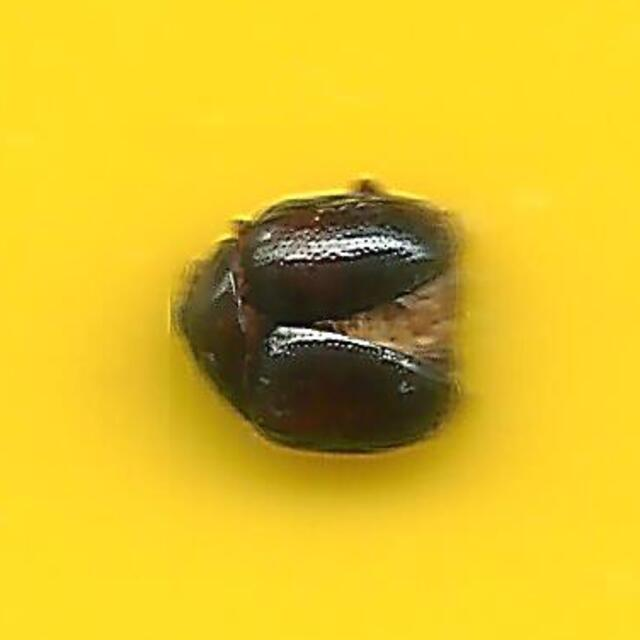Coleoptera: (170, 178, 470, 462)
